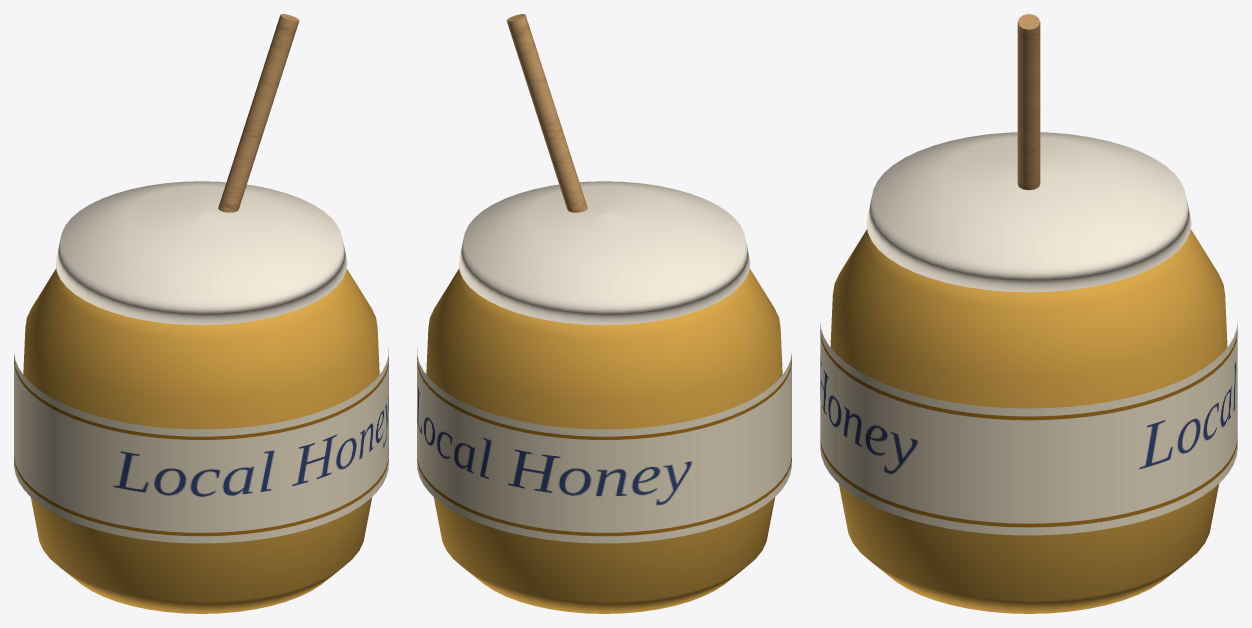
File: honey-crock.glb
The picture shows the model from 3 angles, left to right: view 1: azimuth 30°, elevation 25°; view 2: azimuth 150°, elevation 25°; view 3: azimuth 270°, elevation 25°; orthographic projection. The views are drawn at different scales.
Parts seen in each view (by area): view 1: crock, label, lid, dipper; view 2: crock, label, lid, dipper; view 3: crock, label, lid, dipper.
Part boxes in pixels (x1=…): crock: x1=23, y1=268, x2=379, y2=613; label: x1=14, y1=348, x2=388, y2=543; lid: x1=55, y1=181, x2=347, y2=325; dipper: x1=218, y1=14, x2=299, y2=212; crock: x1=426, y1=268, x2=782, y2=613; label: x1=417, y1=348, x2=791, y2=543; lid: x1=458, y1=181, x2=750, y2=325; dipper: x1=506, y1=14, x2=587, y2=212; crock: x1=830, y1=229, x2=1227, y2=613; label: x1=820, y1=323, x2=1237, y2=535; lid: x1=866, y1=132, x2=1191, y2=292; dipper: x1=1017, y1=14, x2=1040, y2=190.
Size of the model in its own units: 0.149 by 0.2277 by 0.149.
4 materials, 2 textured.
